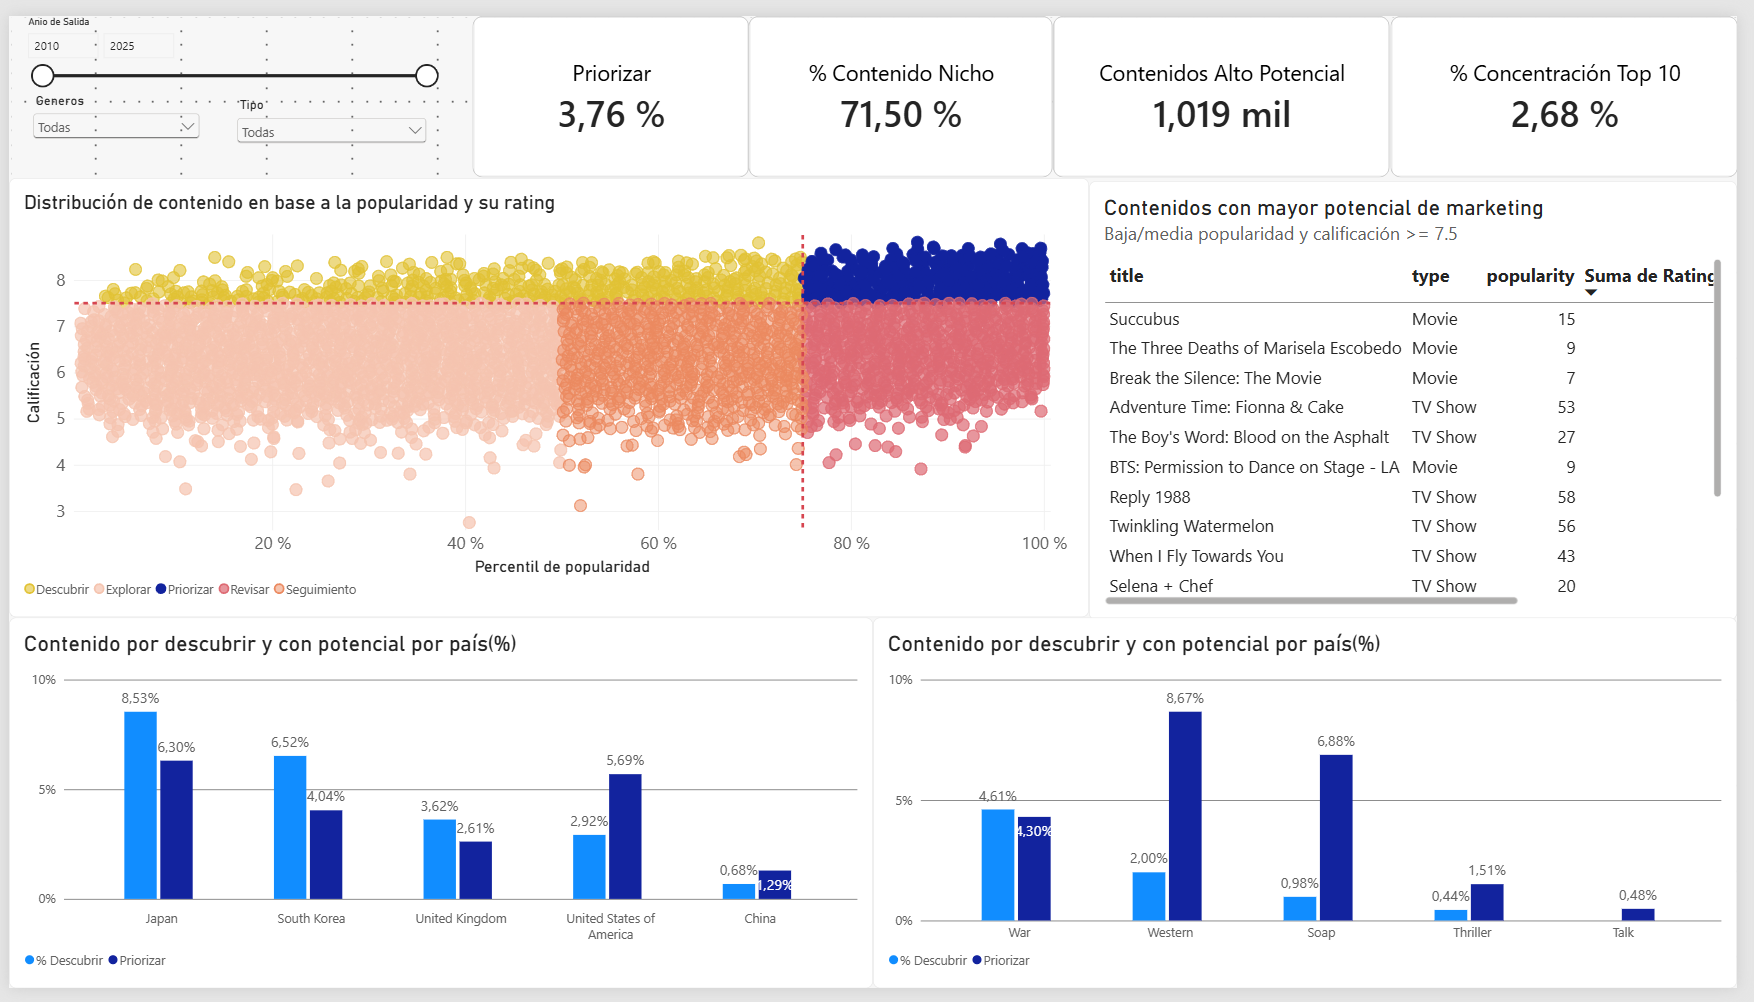

This screenshot's page, from the dashboard's own definition file:
{"tool":"powerbi","page":{"name":"DashboardMarketing","canvas":[1920,1080],"ordinal":0},"visuals":[{"type":"cardVisual","fields":{"Data":["CatalogoGlobal.% Alto potencial"]},"box":[514.3,0,307.6,179.4],"z":0},{"type":"cardVisual","fields":{"Data":["CatalogoGlobal.% Contenido Nicho"]},"box":[821.9,0,338.3,179.4],"z":1000},{"type":"cardVisual","fields":{"Data":["CatalogoGlobal.Contenidos Alto Potencial"]},"box":[1160.2,0,374.2,179.4],"z":2000},{"type":"cardVisual","fields":{"Data":["CatalogoGlobal.% Dependencia Top 10"]},"box":[1534.4,0,386.2,179.4],"z":3000},{"type":"scatterChart","title":"Distribución de contenido en base a la popularidad y su rating","fields":{"Category":["CatalogoGlobal.title"],"Series":["CatalogoGlobal.NivelPotencial"],"X":["Avg(CatalogoGlobal.Percentil_EjeX)"],"Y":["Avg(CatalogoGlobal.Rating Ponderado)"]},"box":[0,179.5,1200.3,488.2],"z":4000},{"type":"tableEx","title":"Contenidos con mayor potencial de marketing","fields":{"Values":["CatalogoGlobal.title","CatalogoGlobal.type","CatalogoGlobal.popularity","Sum(CatalogoGlobal.Rating Ponderado)","Sum(CatalogoGlobal.vote_count)"]},"box":[1200,183.3,720.2,488.2],"z":5000},{"type":"clusteredColumnChart","title":"Contenido por descubrir y con potencial por país(%)","fields":{"Category":["CatalogoGlobal.country"],"Y":["CatalogoGlobal.% A descubrir","CatalogoGlobal.% Alto potencial"]},"box":[0,668,960,412],"z":6000},{"type":"clusteredColumnChart","title":"Contenido por descubrir y con potencial por país(%)","fields":{"Category":["GenerosCG.genres"],"Y":["CatalogoGlobal.% A descubrir","CatalogoGlobal.% Alto potencial"]},"box":[960.2,667.7,960,412],"z":7000},{"type":"slicer","fields":{"Values":["GenerosCG.genres"]},"box":[22.2,85.4,194.8,73.5],"z":8000},{"type":"slicer","fields":{"Values":["CatalogoGlobal.type"]},"box":[247.8,90.6,220.4,73.5],"z":9000},{"type":"slicer","fields":{"Values":["CatalogoGlobal.release_year"]},"box":[13.7,0,466.5,85.4],"z":10000}]}

Visuals, with their boxes in screenshot pixels (x1, y1, x2, y2), scaled from the page's 1920x1080 canvas onto the 1754x1002 screenshot:
cardVisual - CatalogoGlobal.% Alto potencial: bbox=[470, 0, 751, 166]
cardVisual - CatalogoGlobal.% Contenido Nicho: bbox=[751, 0, 1060, 166]
cardVisual - CatalogoGlobal.Contenidos Alto Potencial: bbox=[1060, 0, 1402, 166]
cardVisual - CatalogoGlobal.% Dependencia Top 10: bbox=[1402, 0, 1753, 166]
"Distribución de contenido en base a la popularidad y su rating" scatterChart: bbox=[0, 167, 1097, 619]
"Contenidos con mayor potencial de marketing" tableEx: bbox=[1096, 170, 1753, 623]
"Contenido por descubrir y con potencial por país(%)" clusteredColumnChart: bbox=[0, 620, 877, 1001]
"Contenido por descubrir y con potencial por país(%)" clusteredColumnChart: bbox=[877, 619, 1753, 1001]
slicer - GenerosCG.genres: bbox=[20, 79, 198, 147]
slicer - CatalogoGlobal.type: bbox=[226, 84, 428, 152]
slicer - CatalogoGlobal.release_year: bbox=[13, 0, 439, 79]
